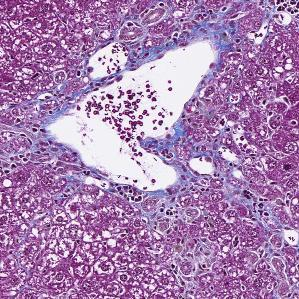fibrosis: (153, 139, 275, 225), (183, 2, 272, 44)
